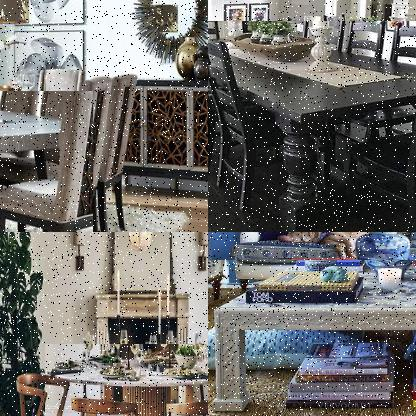table: (208, 21, 415, 231), (208, 260, 415, 415), (0, 91, 93, 231), (44, 343, 207, 415)
